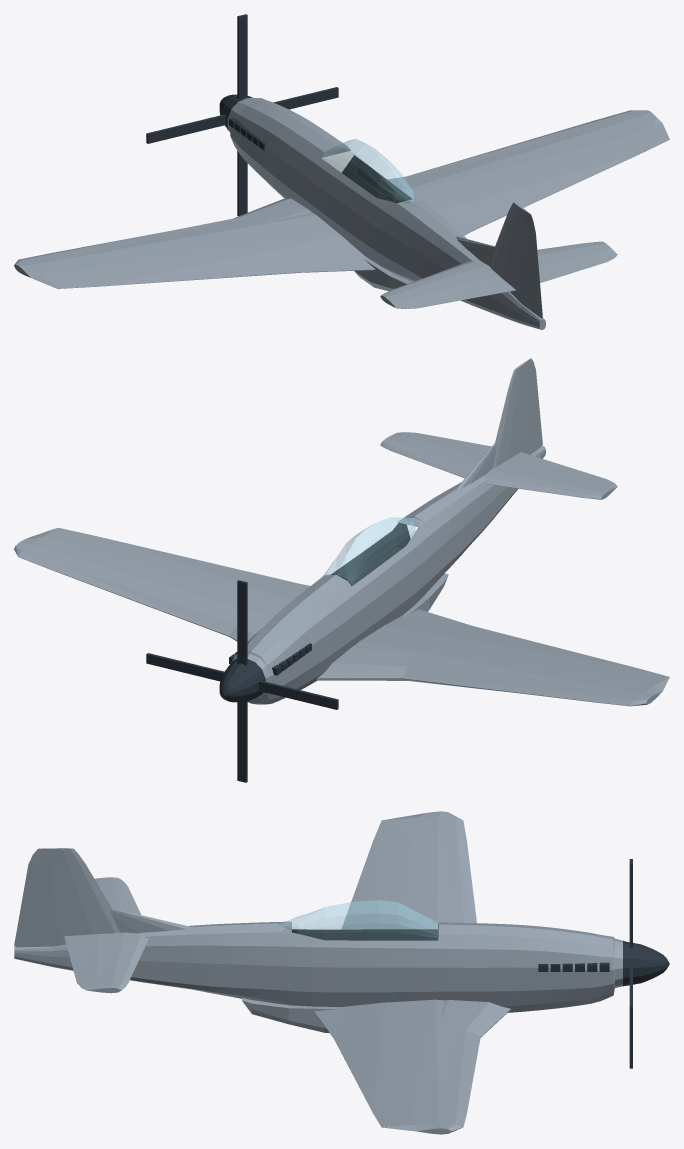
The picture shows the model from 3 angles, top to bottom: view 1: azimuth 30°, elevation 25°; view 2: azimuth 150°, elevation 25°; view 3: azimuth 270°, elevation 25°; orthographic projection. The views are drawn at different scales.
Visible parts, largest first — view 1: Mesh_23, Mesh_0, Mesh_25, Mesh_4, Mesh_2, Mesh_24, Mesh_1, P51_Prop.001, P51_Prop, Scoop, P51_Prop.003, P51_Prop.002 (+1 smaller); view 2: Mesh_23, Mesh_0, Mesh_25, Mesh_4, Mesh_24, Mesh_2, Mesh_1, Spinner, P51_Prop.001, P51_Prop, P51_Prop.003, P51_Prop.002; view 3: Mesh_0, Mesh_23, Mesh_4, Mesh_2, Mesh_25, Mesh_24, Mesh_1, Scoop, Spinner, Mesh_5.
Boxes of the visible parts, left/top/right/bottom form: Mesh_23: left=14, top=110, right=669, bottom=288; Mesh_0: left=230, top=98, right=545, bottom=329; Mesh_25: left=380, top=241, right=617, bottom=308; Mesh_4: left=490, top=202, right=542, bottom=318; Mesh_2: left=321, top=139, right=415, bottom=202; Mesh_24: left=233, top=176, right=473, bottom=272; Mesh_1: left=342, top=155, right=412, bottom=202; P51_Prop.001: left=146, top=114, right=225, bottom=143; P51_Prop: left=237, top=14, right=247, bottom=98; Scoop: left=354, top=257, right=412, bottom=291; P51_Prop.003: left=273, top=87, right=338, bottom=109; P51_Prop.002: left=237, top=151, right=247, bottom=216; Mesh_23: left=14, top=527, right=669, bottom=706; Mesh_0: left=233, top=445, right=545, bottom=704; Mesh_25: left=380, top=432, right=617, bottom=499; Mesh_4: left=492, top=358, right=542, bottom=468; Mesh_24: left=229, top=584, right=472, bottom=680; Mesh_2: left=322, top=517, right=415, bottom=585; Mesh_1: left=331, top=522, right=410, bottom=585; Spinner: left=219, top=658, right=265, bottom=702; P51_Prop.001: left=259, top=680, right=338, bottom=709; P51_Prop: left=237, top=580, right=247, bottom=665; P51_Prop.003: left=146, top=653, right=224, bottom=681; P51_Prop.002: left=237, top=701, right=247, bottom=782; Mesh_0: left=14, top=921, right=614, bottom=1012; Mesh_23: left=333, top=811, right=480, bottom=1134; Mesh_4: left=14, top=848, right=119, bottom=947; Mesh_2: left=279, top=900, right=437, bottom=940; Mesh_25: left=64, top=877, right=148, bottom=993; Mesh_24: left=313, top=1000, right=510, bottom=1037; Mesh_1: left=292, top=929, right=437, bottom=940; Scoop: left=242, top=998, right=338, bottom=1032; Spinner: left=623, top=940, right=669, bottom=986; Mesh_5: left=110, top=908, right=191, bottom=933.
Bounding box in the file's own units: 11.28 × 3.61 × 9.87.
